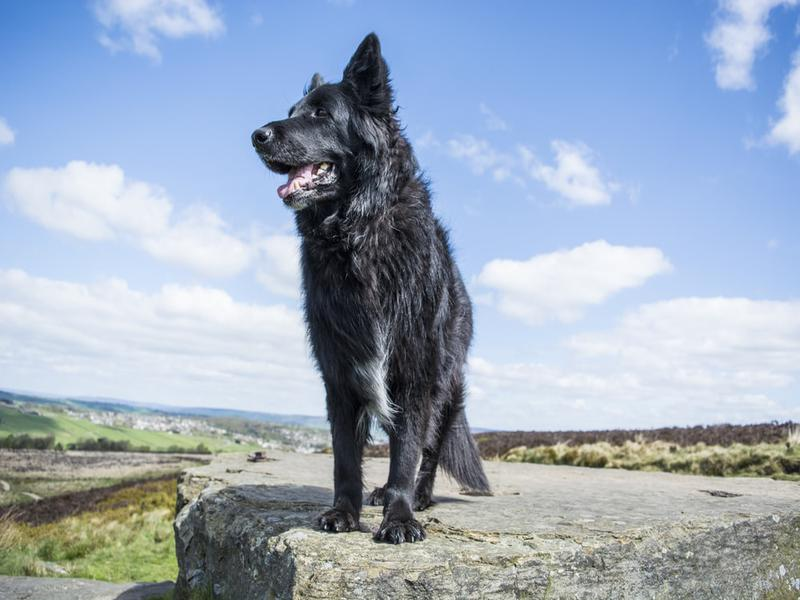dog_stand: (247, 30, 499, 551)
